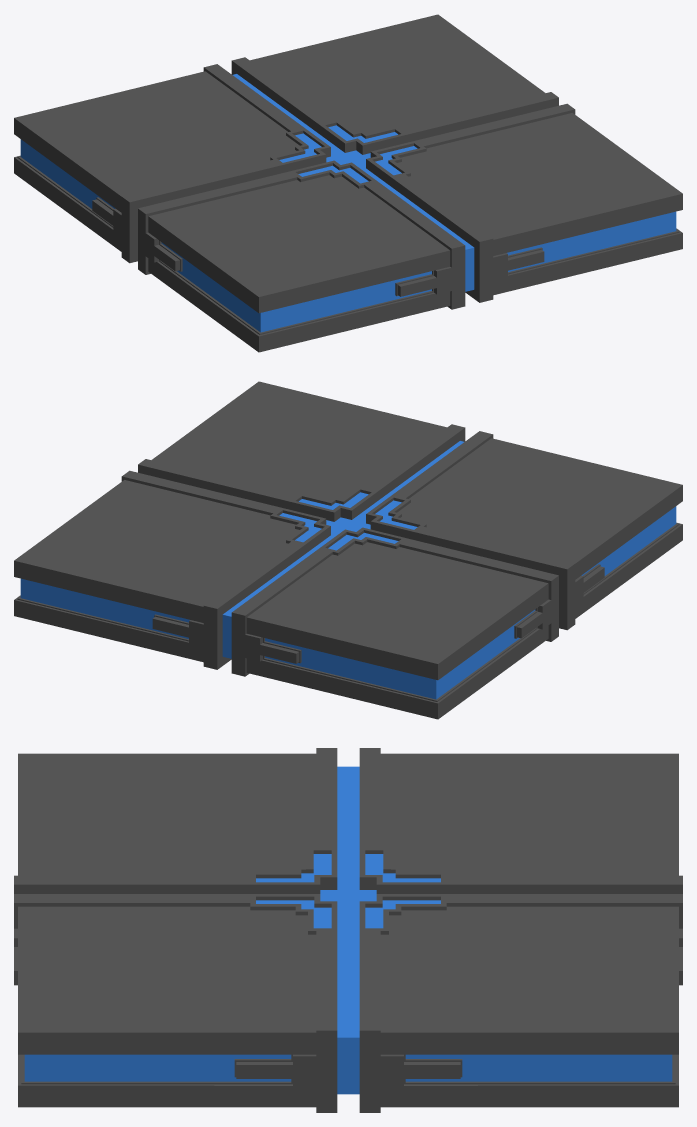
File: SM_FMovingPlatform_03.FBX
The picture shows the model from 3 angles, top to bottom: view 1: azimuth 30°, elevation 25°; view 2: azimuth 150°, elevation 25°; view 3: azimuth 270°, elevation 25°; orthographic projection. The views are drawn at different scales.
Visible parts, largest first — view 1: SM_MovingPlatform3_low; view 2: SM_MovingPlatform3_low; view 3: SM_MovingPlatform3_low.
Boxes of the visible parts, x1=… form: SM_MovingPlatform3_low: x1=14, y1=14, x2=682, y2=352; SM_MovingPlatform3_low: x1=14, y1=381, x2=682, y2=719; SM_MovingPlatform3_low: x1=14, y1=748, x2=682, y2=1112.
Size of the model in its own units: 404 by 54.87 by 405.
